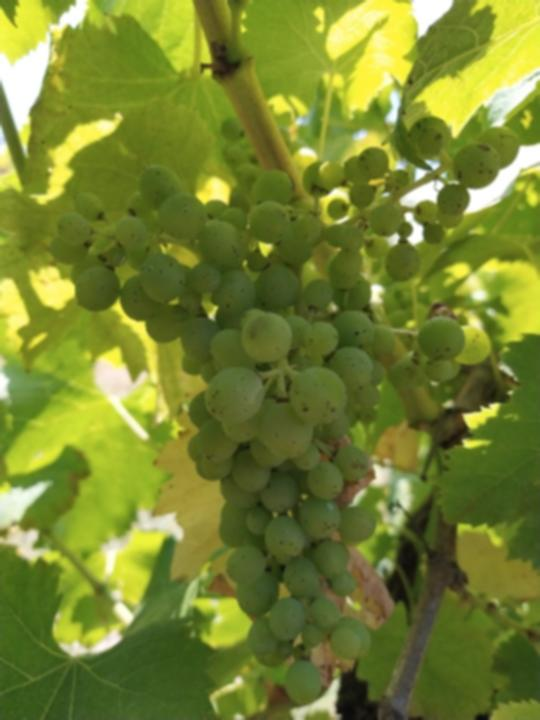grape: (52, 116, 524, 709)
